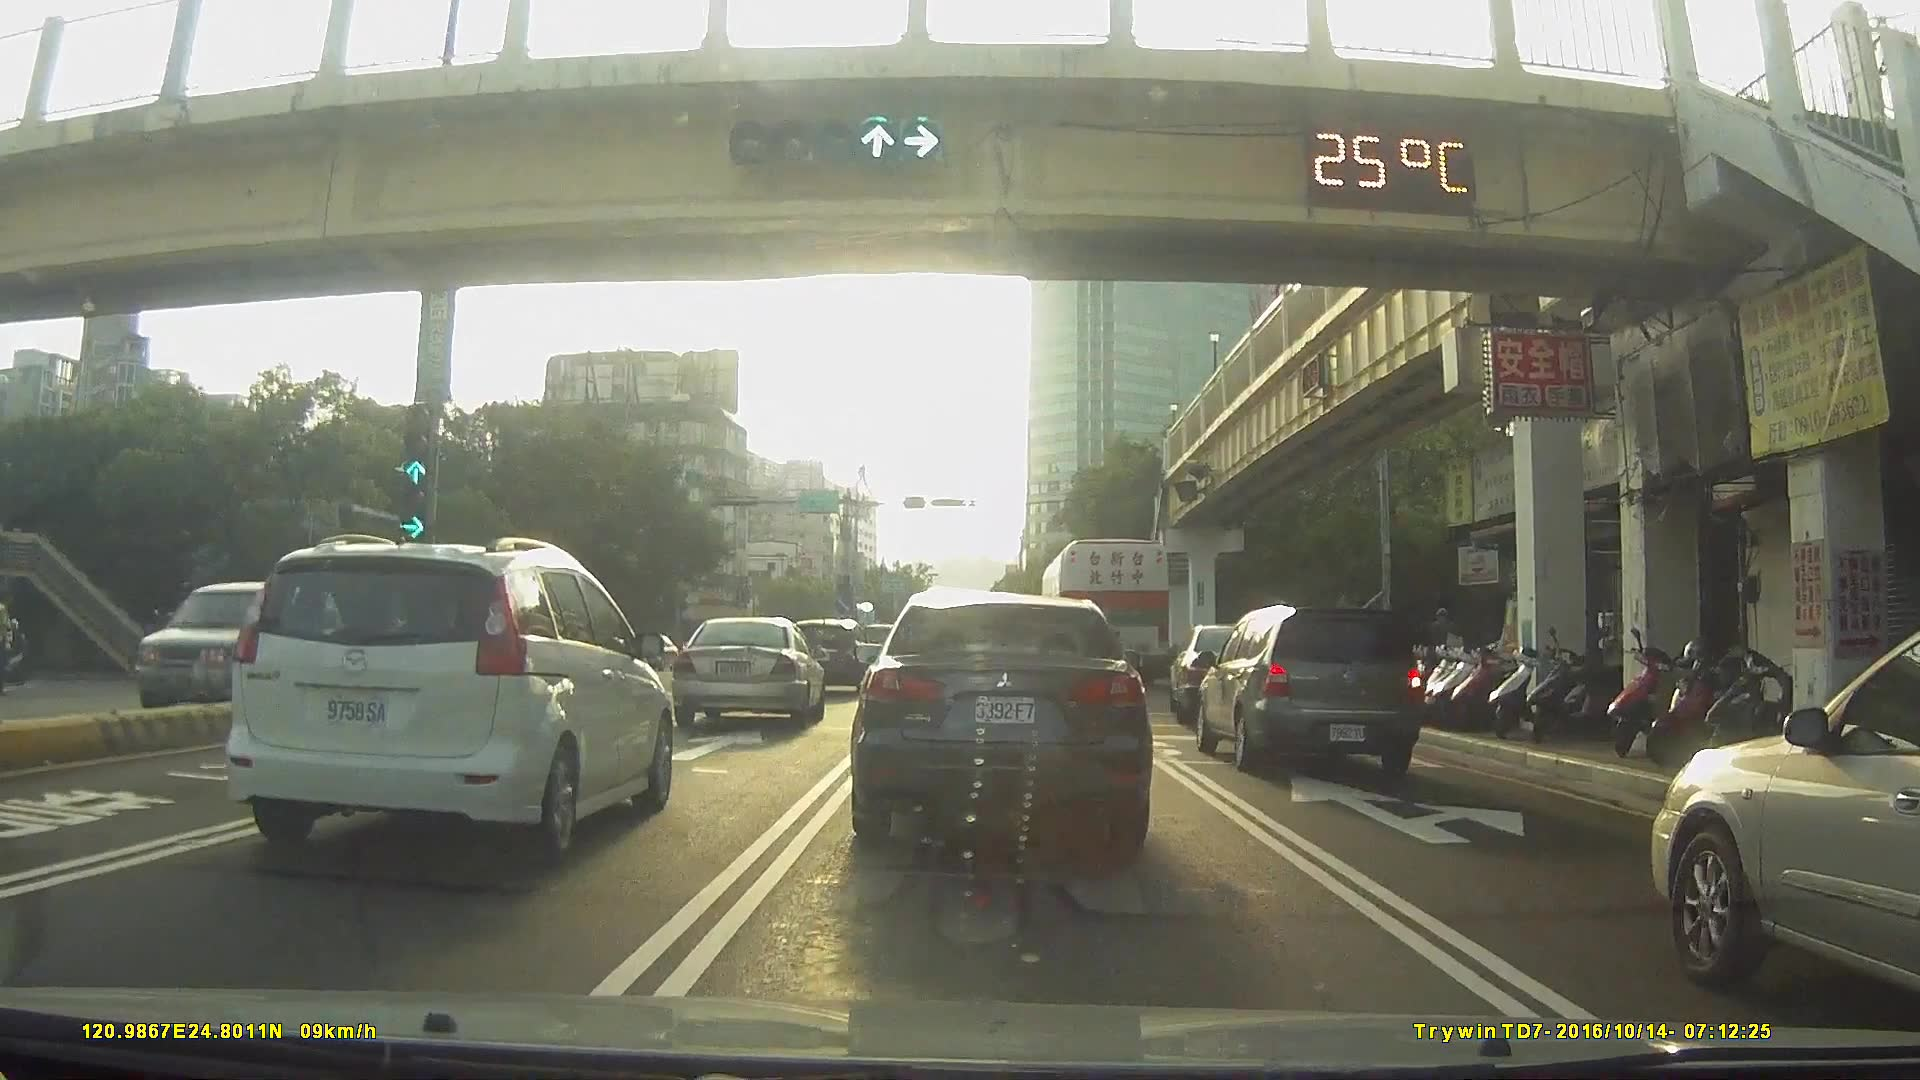vehicle: (214, 531, 679, 864), (1648, 626, 1920, 996), (848, 588, 1149, 857), (1193, 604, 1422, 781), (116, 576, 334, 717), (1036, 538, 1176, 690), (669, 613, 822, 729), (1179, 622, 1302, 721), (782, 620, 866, 698), (645, 633, 700, 678)
